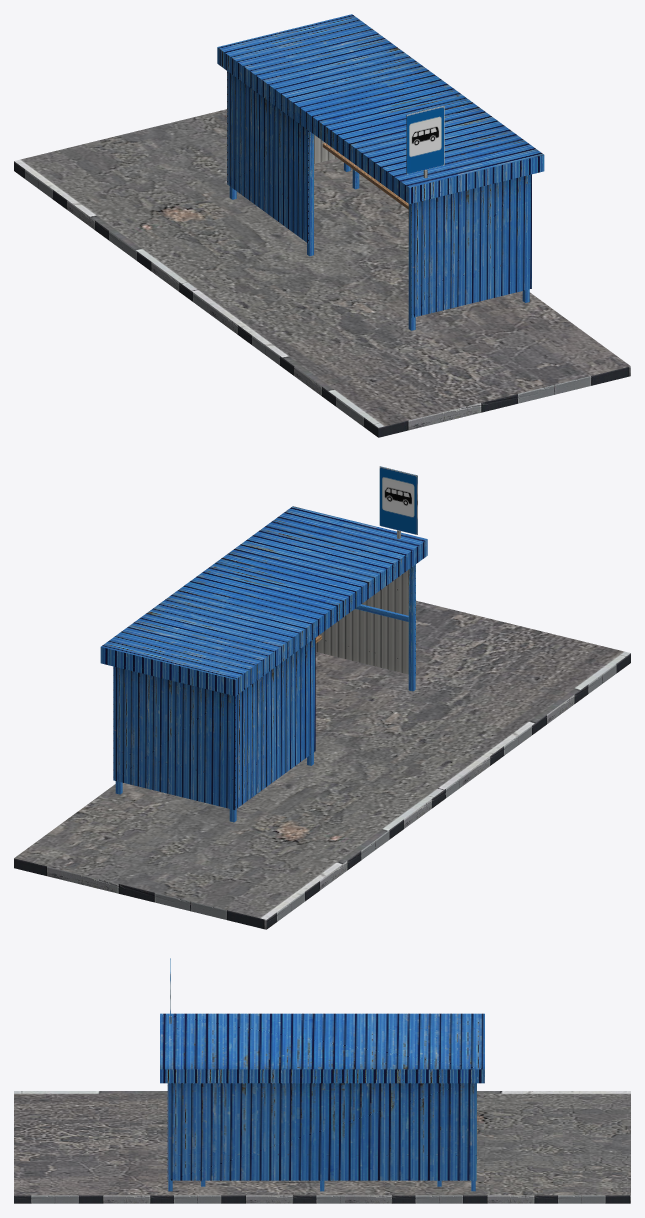
Rendered from r402_ostanovka2.FBX.
3 views of the same model, one above another, from view 1: azimuth 30°, elevation 25°; view 2: azimuth 150°, elevation 25°; view 3: azimuth 270°, elevation 25° (orthographic). The views are drawn at different scales.
Visible parts, largest first — view 1: r402_ostanovka2; view 2: r402_ostanovka2; view 3: r402_ostanovka2.
Boxes of the visible parts, box(x1,y1,x2,y2) form: r402_ostanovka2: box(14, 14, 630, 437); r402_ostanovka2: box(14, 466, 630, 929); r402_ostanovka2: box(14, 958, 630, 1203).
Bounding box in the file's own units: 400 × 1000 × 342.
